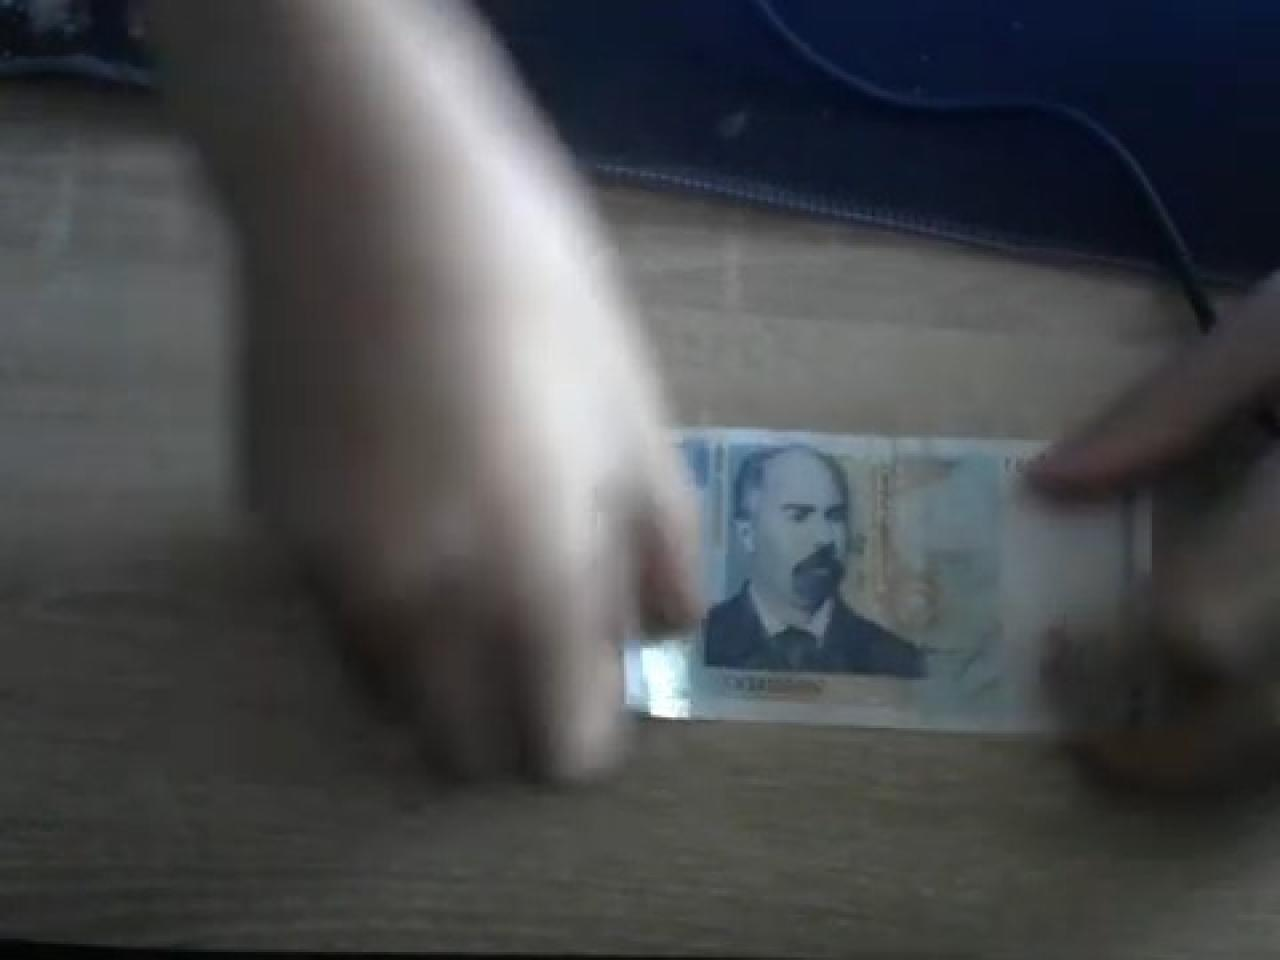20leva: (698, 440, 930, 680)
